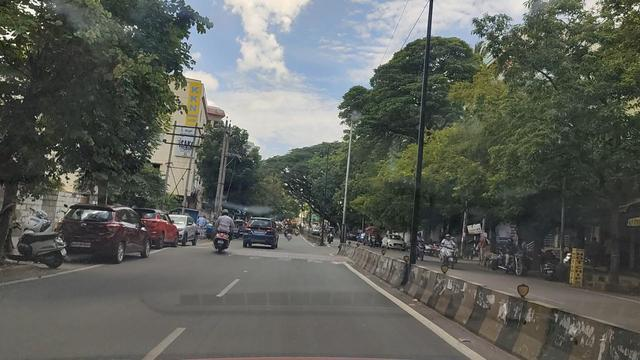LMV: (60, 206, 142, 261), (248, 213, 278, 246), (213, 209, 235, 249)
